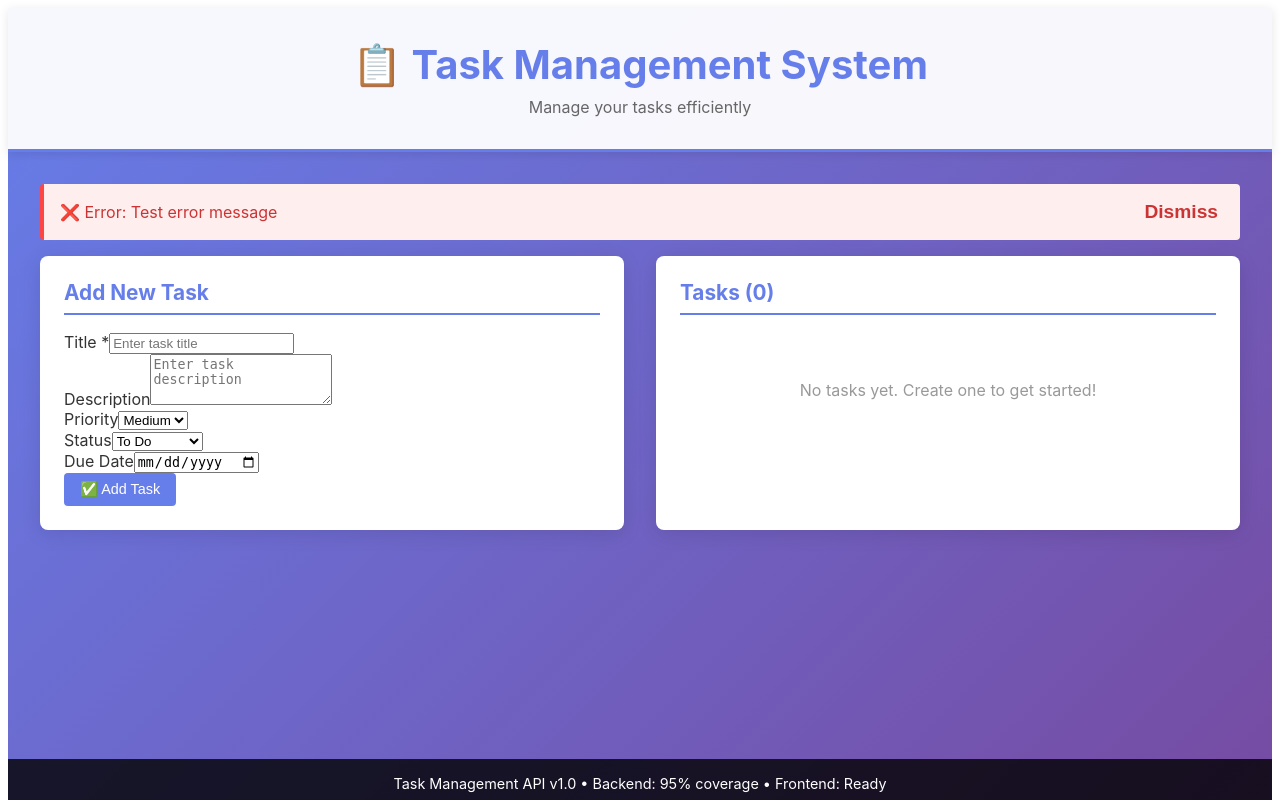
App Component › should dismiss error message when dismiss button is clicked
Expected: the text "❌ Error: Test error message" is shown, [60,202,277,222]
Click the button "Dismiss".
click(1181, 212)  # box [1138,200,1224,224]
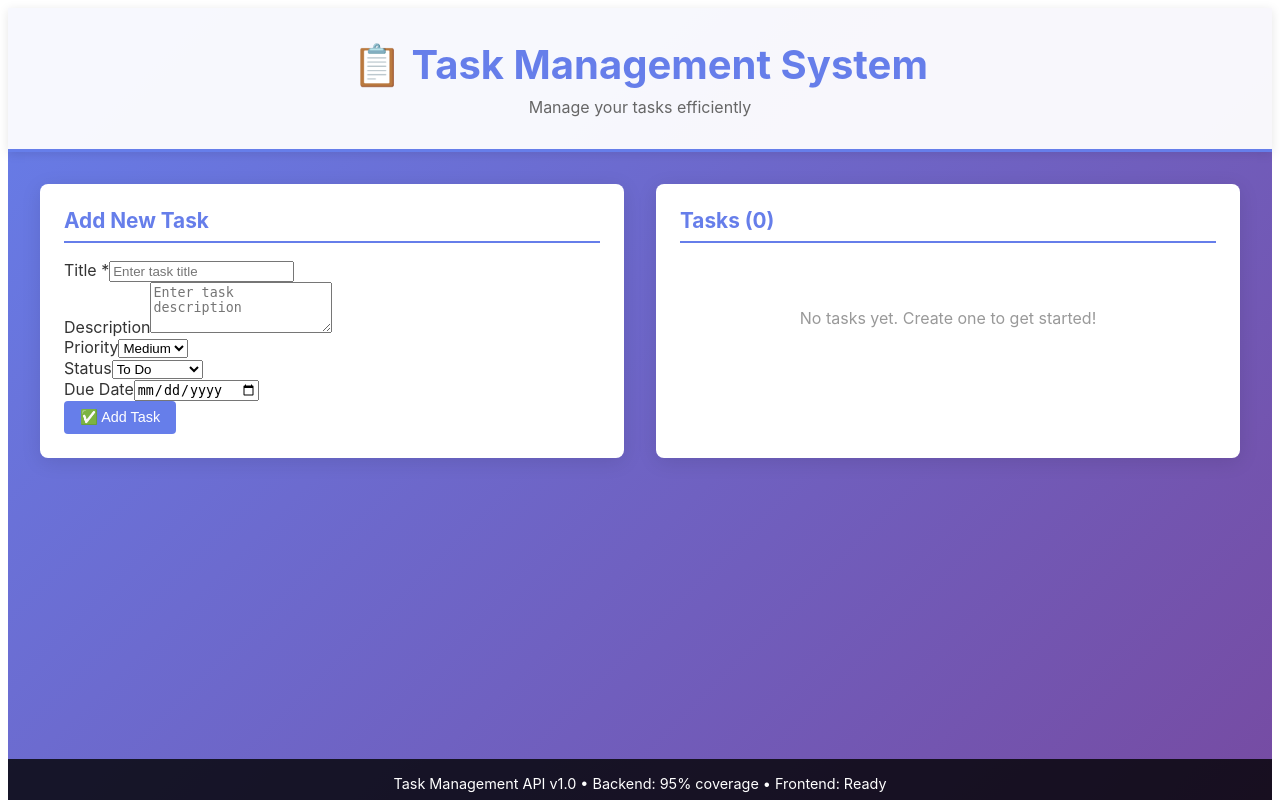
Now the text "Test error message" is gone
